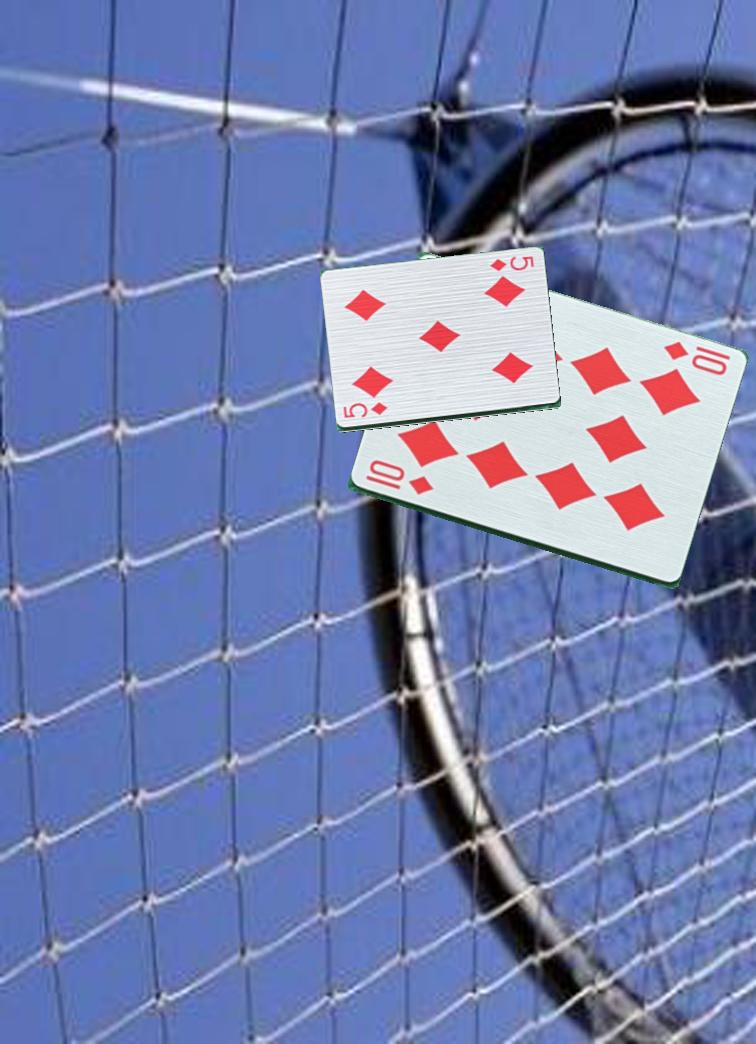5d: (486, 253, 537, 274), (339, 401, 390, 421)
td: (660, 336, 731, 379), (363, 471, 443, 498)
